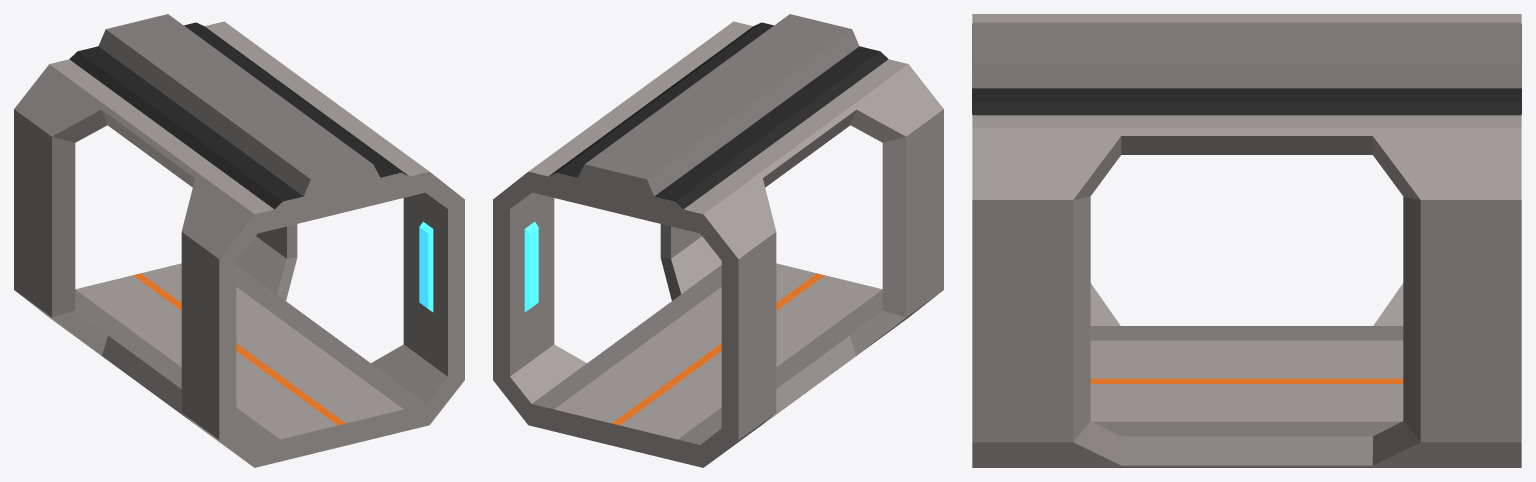
Rendered from scifi_scifi-planet-base-hall-two-middle.fbx.
3 views of the same model, side by side, from view 1: azimuth 30°, elevation 25°; view 2: azimuth 150°, elevation 25°; view 3: azimuth 270°, elevation 25° (orthographic). The views are drawn at different scales.
Visible parts, largest first — view 1: scifi_scifi_planet_base_hall_two_middle; view 2: scifi_scifi_planet_base_hall_two_middle; view 3: scifi_scifi_planet_base_hall_two_middle.
Part boxes in pixels (x1=…): scifi_scifi_planet_base_hall_two_middle: x1=14, y1=14, x2=464, y2=467; scifi_scifi_planet_base_hall_two_middle: x1=493, y1=14, x2=943, y2=467; scifi_scifi_planet_base_hall_two_middle: x1=972, y1=14, x2=1521, y2=467.
Size of the model in its own units: 138 by 148 by 200.
